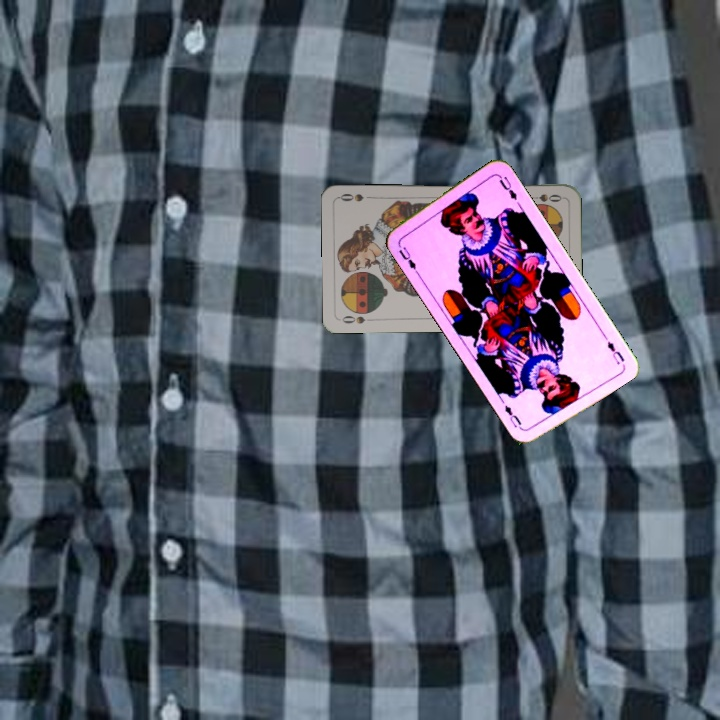EU: (599, 330, 627, 367), (394, 243, 420, 276)
SO: (524, 190, 565, 205), (338, 311, 367, 326)
